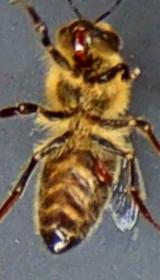varroa_mite: (88, 155, 112, 186)
